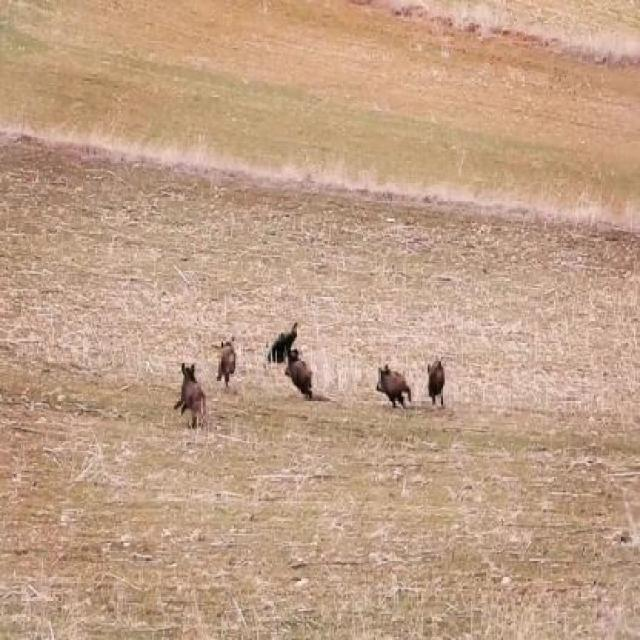Boar: (172, 348, 223, 442), (204, 316, 242, 386), (409, 340, 446, 409), (366, 342, 402, 400), (282, 342, 309, 400), (263, 308, 288, 343)
